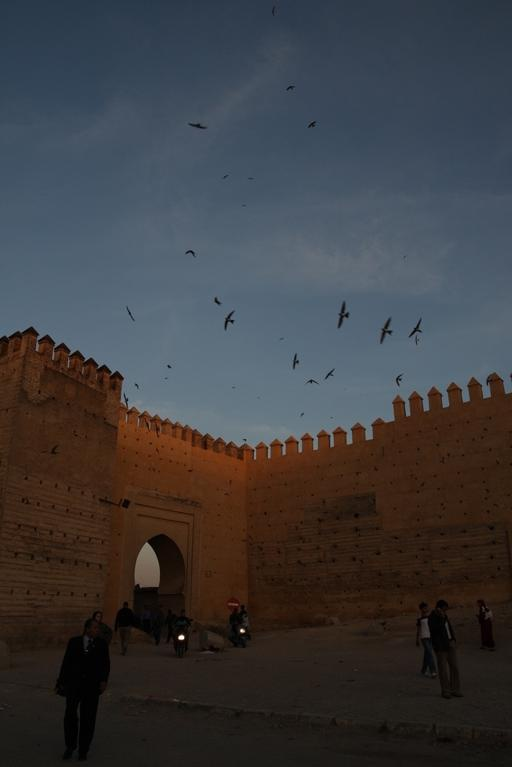non-vehicle: (228, 624, 251, 648), (172, 626, 188, 656)
